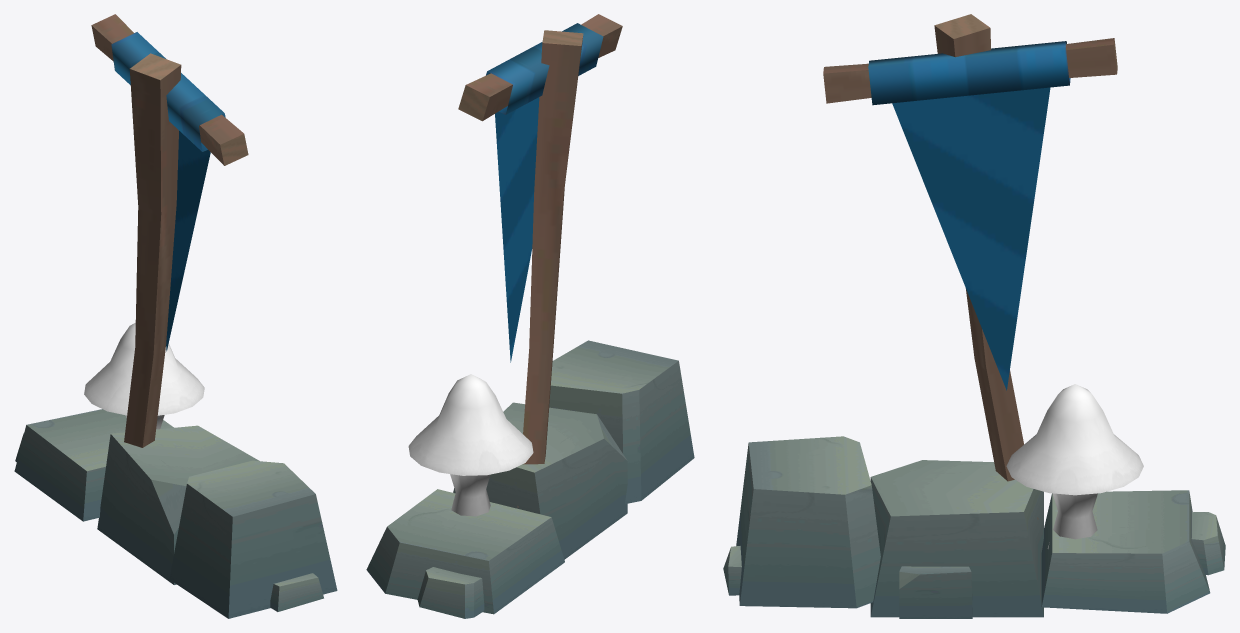
File: Wall1B-004_40_26_8538.fbx
3 views of the same model, side by side, from view 1: azimuth 30°, elevation 25°; view 2: azimuth 150°, elevation 25°; view 3: azimuth 270°, elevation 25° (orthographic). The views are drawn at different scales.
Visible parts, largest first — view 1: Wall1 (2), Wood1.002 (1), Shroom2 (1), Flag5.001 (1), ClothTop1 (1), WoodTop (1); view 2: Wall1 (2), Wood1.002 (1), Shroom2 (1), Flag5.001 (1), ClothTop1 (1), WoodTop (1); view 3: Wall1 (2), Flag5.001 (1), Shroom2 (1), ClothTop1 (1), Wood1.002 (1), WoodTop (1).
Part boxes in pixels (<box>): Wall1 (2): <box>14,409,337,618</box>; Wood1.002 (1): <box>124,53,181,447</box>; Shroom2 (1): <box>84,323,204,429</box>; Flag5.001 (1): <box>166,131,210,351</box>; ClothTop1 (1): <box>111,32,225,151</box>; WoodTop (1): <box>91,14,248,165</box>; Wall1 (2): <box>366,340,694,618</box>; Wood1.002 (1): <box>517,30,583,507</box>; Shroom2 (1): <box>408,374,533,516</box>; Flag5.001 (1): <box>495,97,539,362</box>; ClothTop1 (1): <box>486,23,603,114</box>; WoodTop (1): <box>458,14,622,121</box>; Wall1 (2): <box>723,436,1225,618</box>; Flag5.001 (1): <box>892,87,1050,390</box>; Shroom2 (1): <box>1006,384,1143,548</box>; ClothTop1 (1): <box>868,41,1070,105</box>; Wood1.002 (1): <box>934,14,1038,519</box>; WoodTop (1): <box>823,38,1117,103</box>.
Size of the model in its own units: 1.12 by 3.82 by 3.17.
